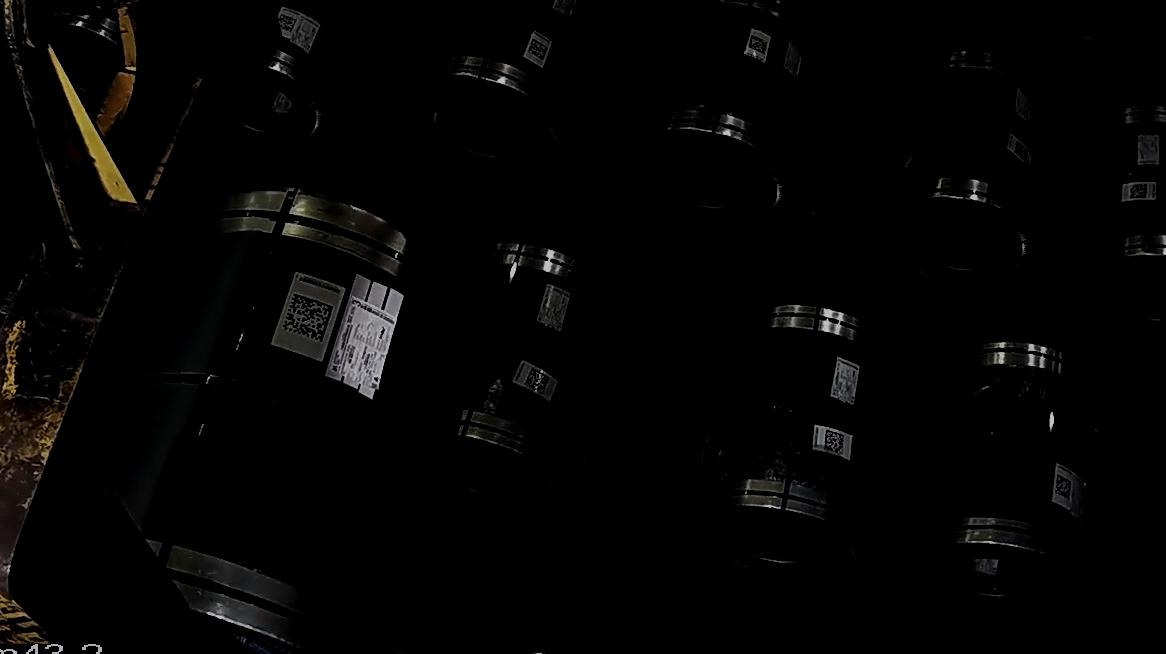data matrix: (280, 292, 336, 347), (521, 367, 553, 398), (1052, 470, 1076, 503), (823, 428, 849, 457), (523, 38, 552, 63), (745, 32, 771, 57), (276, 11, 300, 36), (1126, 182, 1151, 202), (1012, 141, 1032, 163)
